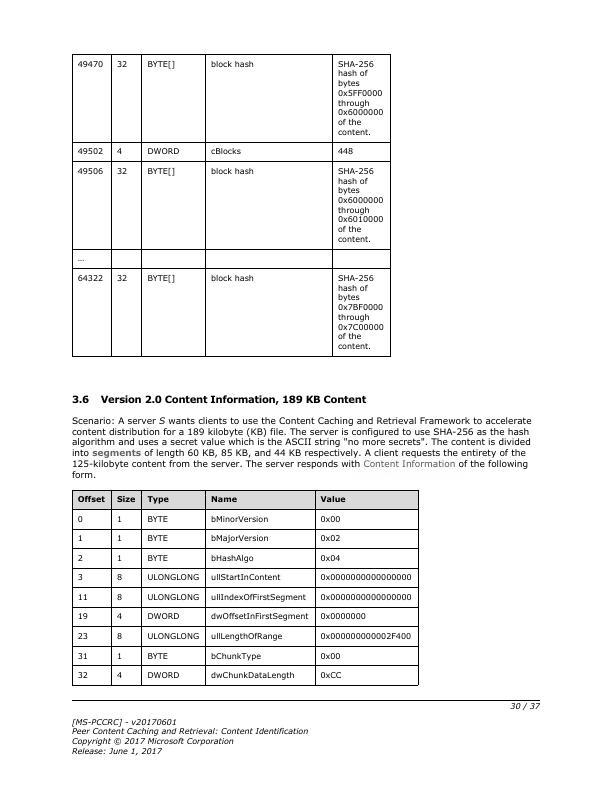table: (70, 52, 393, 360), (70, 488, 421, 689)
text: (68, 414, 533, 481), (70, 716, 312, 757), (68, 393, 371, 408)
